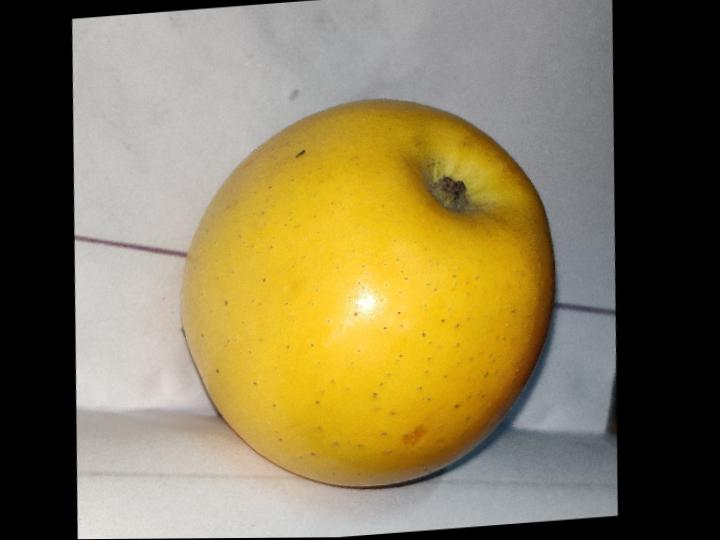apple: (181, 102, 552, 487)
surface_damage: (402, 425, 425, 448)
